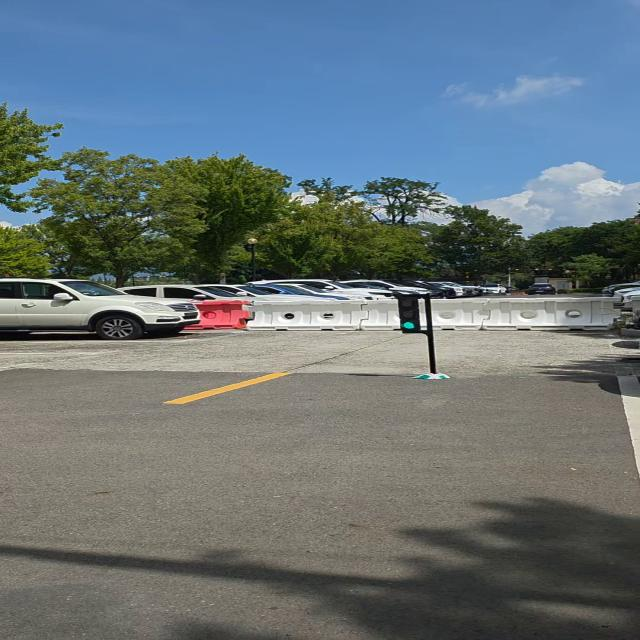green: (399, 294, 425, 332)
